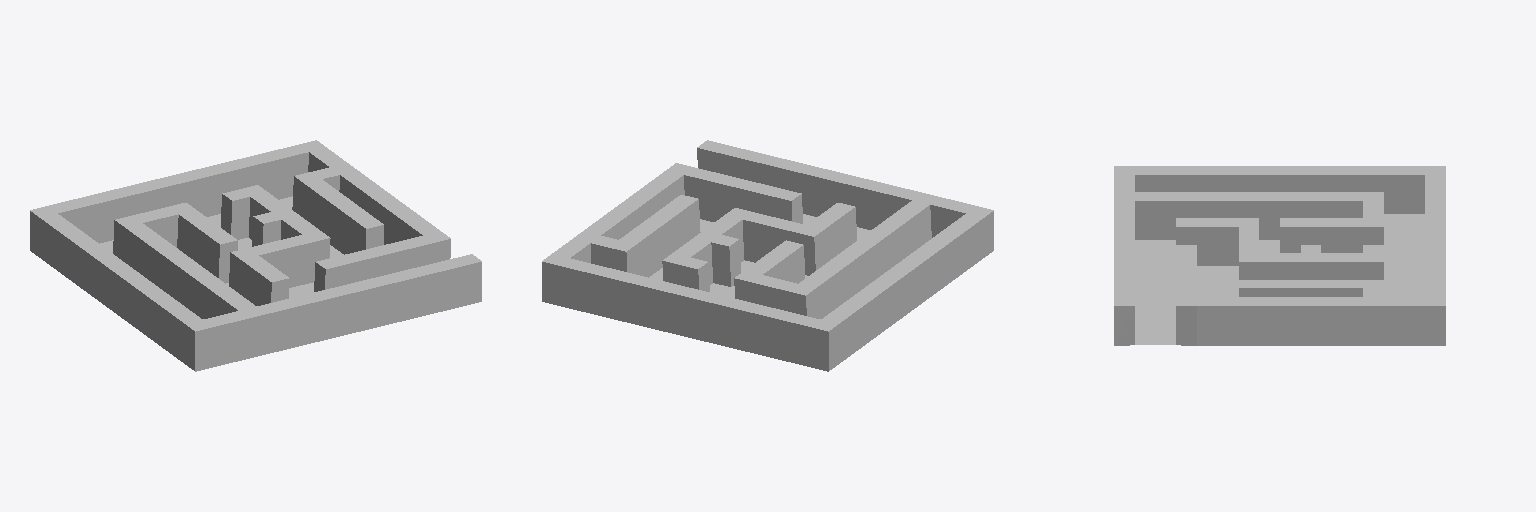
Rendered from maze.obj.
The picture shows the model from 3 angles: view 1: azimuth 30°, elevation 25°; view 2: azimuth 150°, elevation 25°; view 3: azimuth 270°, elevation 25°; orthographic projection.
Visible parts, largest first — view 1: Plane_Plane.002; view 2: Plane_Plane.002; view 3: Plane_Plane.002.
Boxes of the visible parts, x1=… form: Plane_Plane.002: x1=30, y1=140, x2=481, y2=371; Plane_Plane.002: x1=542, y1=140, x2=993, y2=371; Plane_Plane.002: x1=1114, y1=166, x2=1445, y2=345.
Bounding box in the file's own units: 16.02 × 2.15 × 16.02.